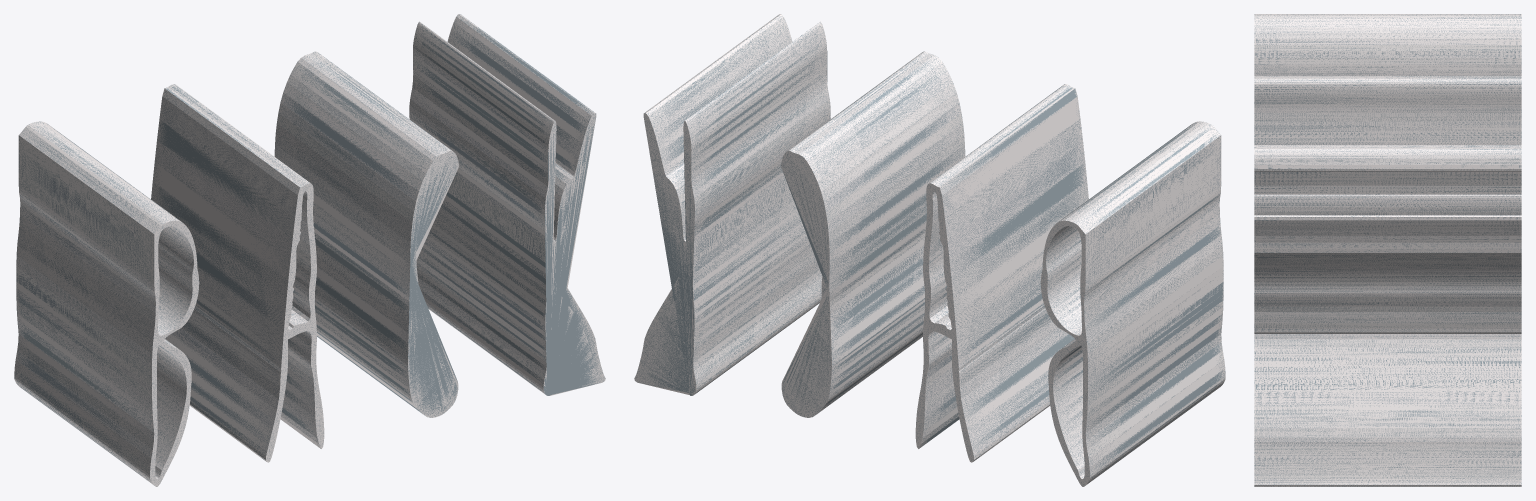
File: BACK.fbx
The picture shows the model from 3 angles, left to right: view 1: azimuth 30°, elevation 25°; view 2: azimuth 150°, elevation 25°; view 3: azimuth 270°, elevation 25°; orthographic projection.
Parts seen in each view (by area): view 1: Group1; view 2: Group1; view 3: Group1.
Part boxes in pixels (bbox=[...]): Group1: bbox=[14, 14, 605, 486]; Group1: bbox=[634, 14, 1225, 486]; Group1: bbox=[1254, 14, 1521, 486].
Size of the model in its own units: 3880 by 2228 by 2000.
